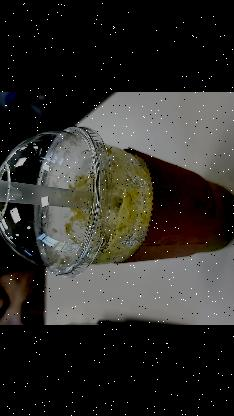Others: (0, 124, 234, 271), (0, 125, 108, 276), (0, 165, 115, 207)
